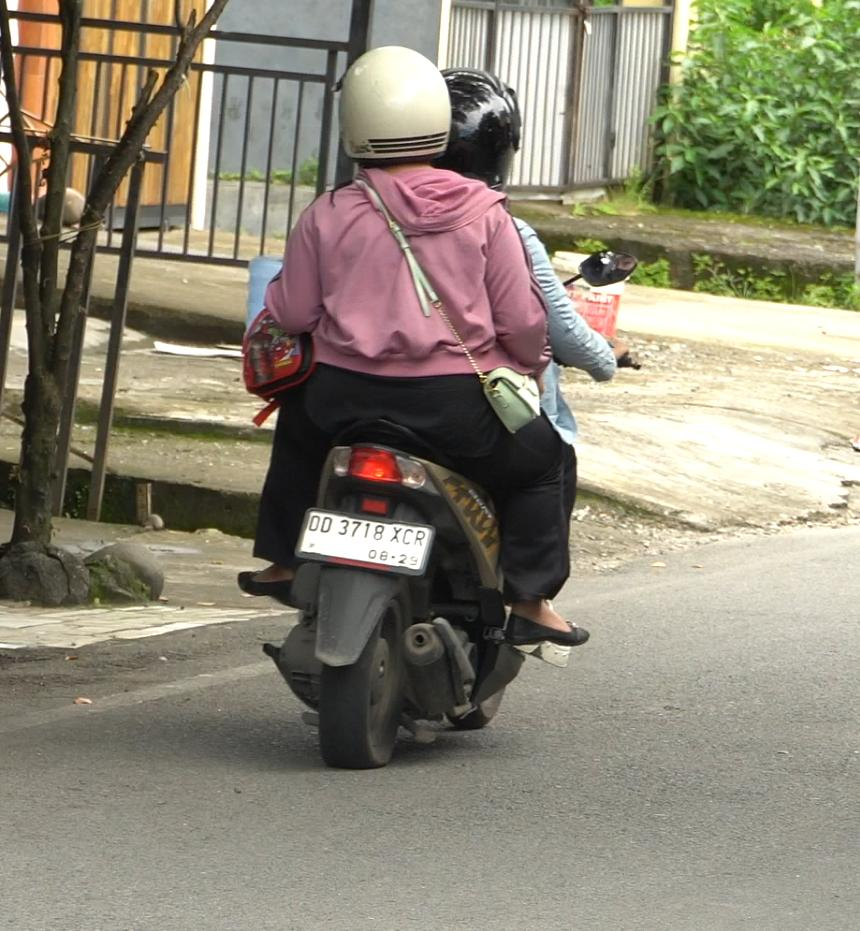number-plate: (292, 507, 438, 581)
